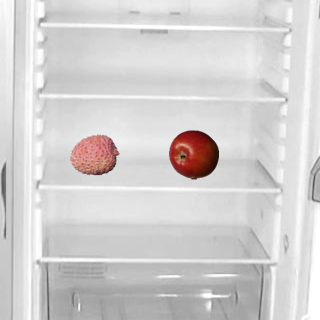Apple Braeburn: (168, 129, 218, 179)
Lychee: (69, 129, 119, 179)
